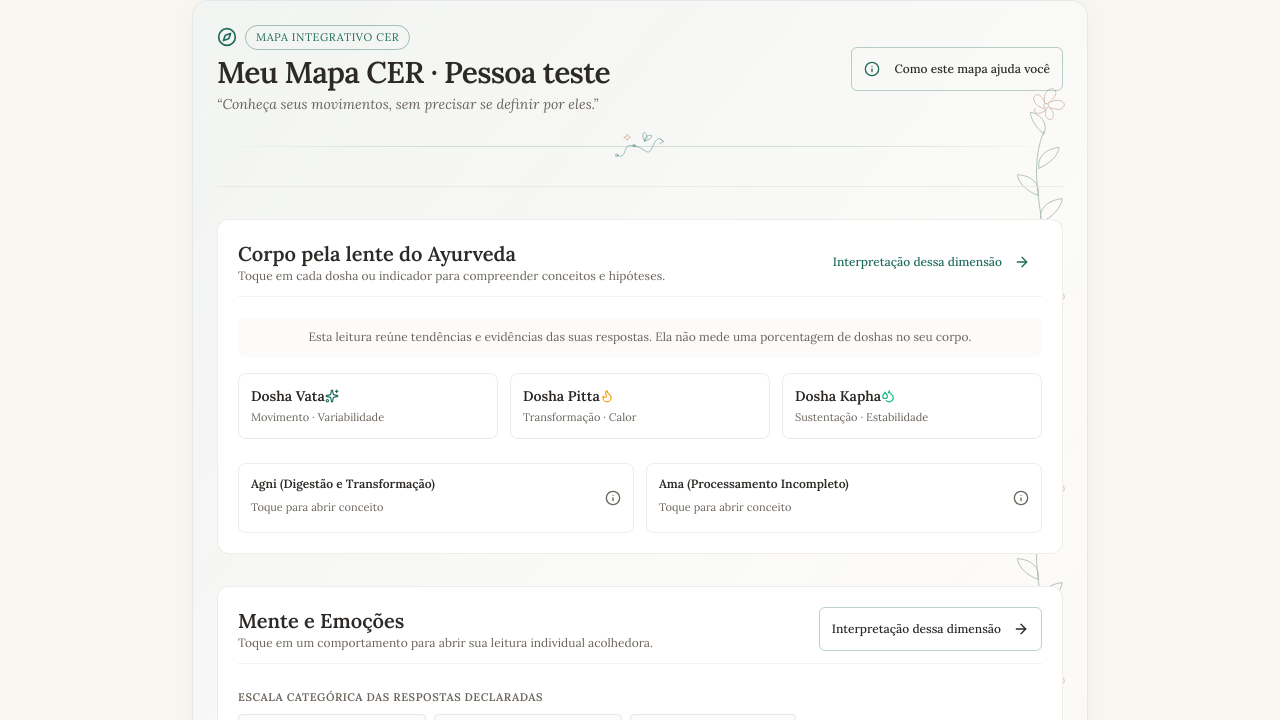
Test: Mapa CER: somente a publicação revisada, em duas profundidades › exibe exatamente o snapshot publicado e aprofunda explicações e referências no diálogo ao clicar
Step 1. Click the button with aria-label "Interpretação dessa dimensão: Mente e Emoções" → x=930, y=629, box [819,607,1042,651]
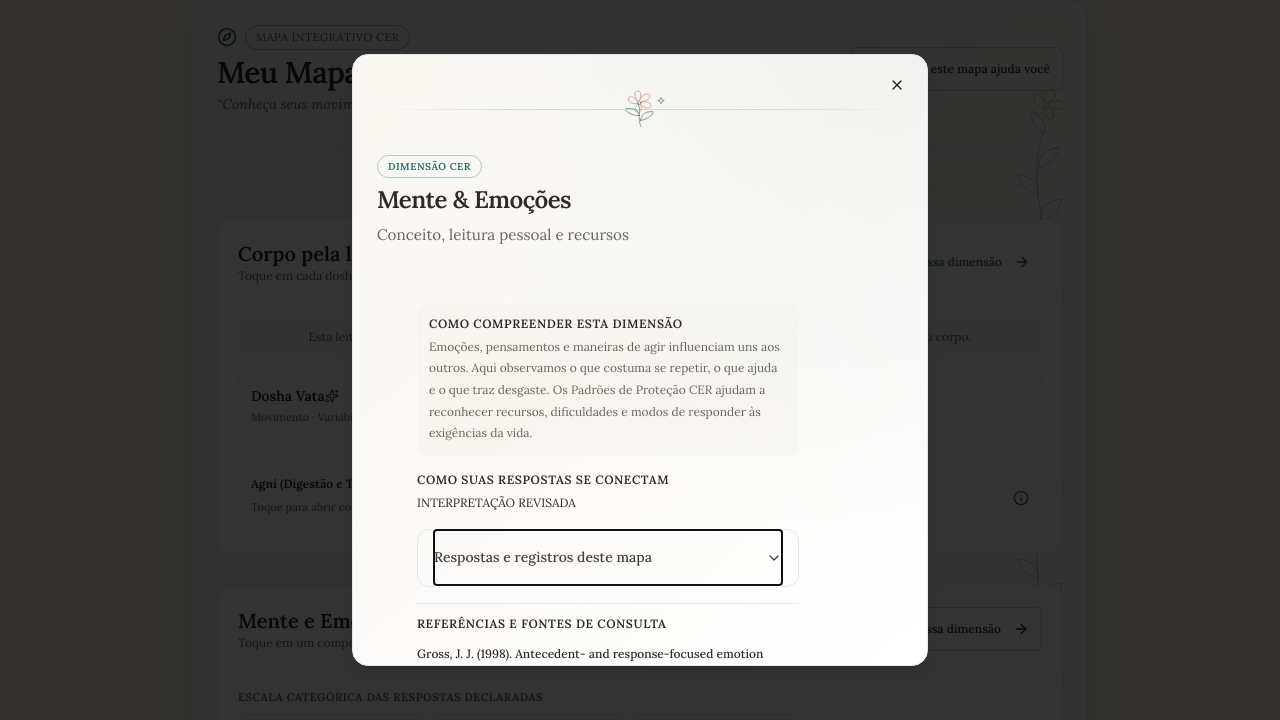
Step 2. Click the button "Respostas e registros deste mapa" → x=608, y=558, box [434,530,782,585]
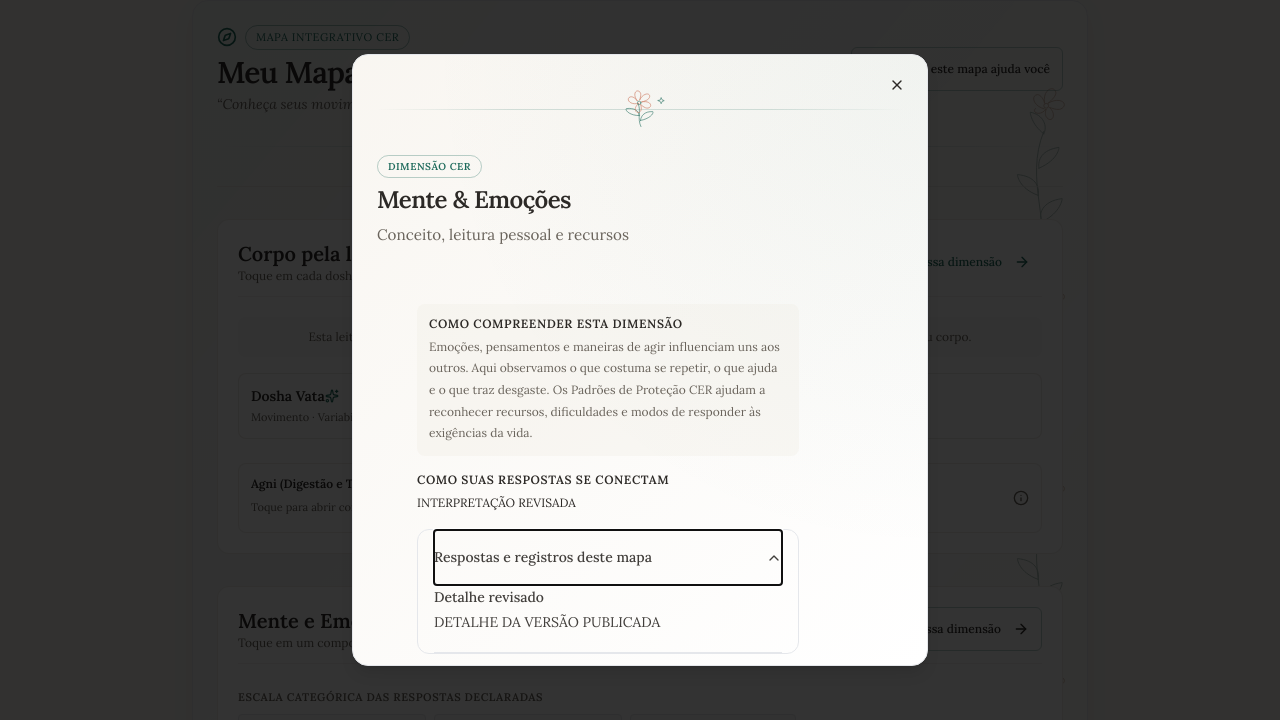
Check: the text "INTERPRETAÇÃO REVISADA" is shown, box [417,495,576,510]
Check: the text "DETALHE DA VERSÃO PUBLICADA" is shown, box [434,613,660,631]
